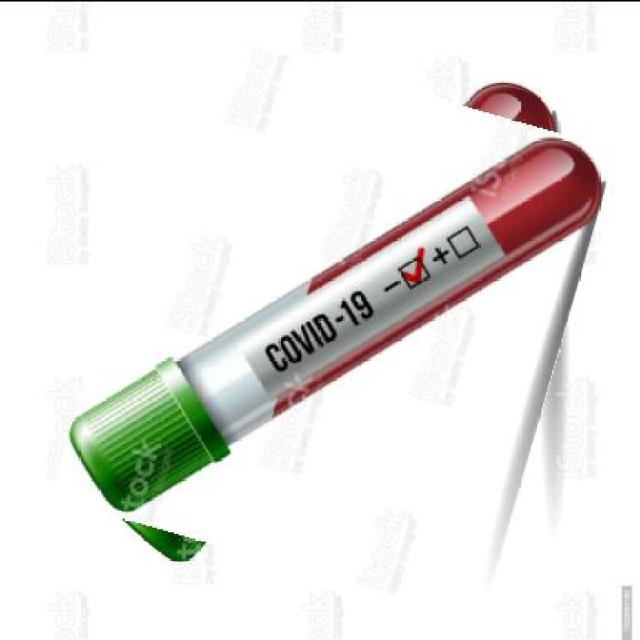Experimental-tube: (80, 51, 586, 592)
